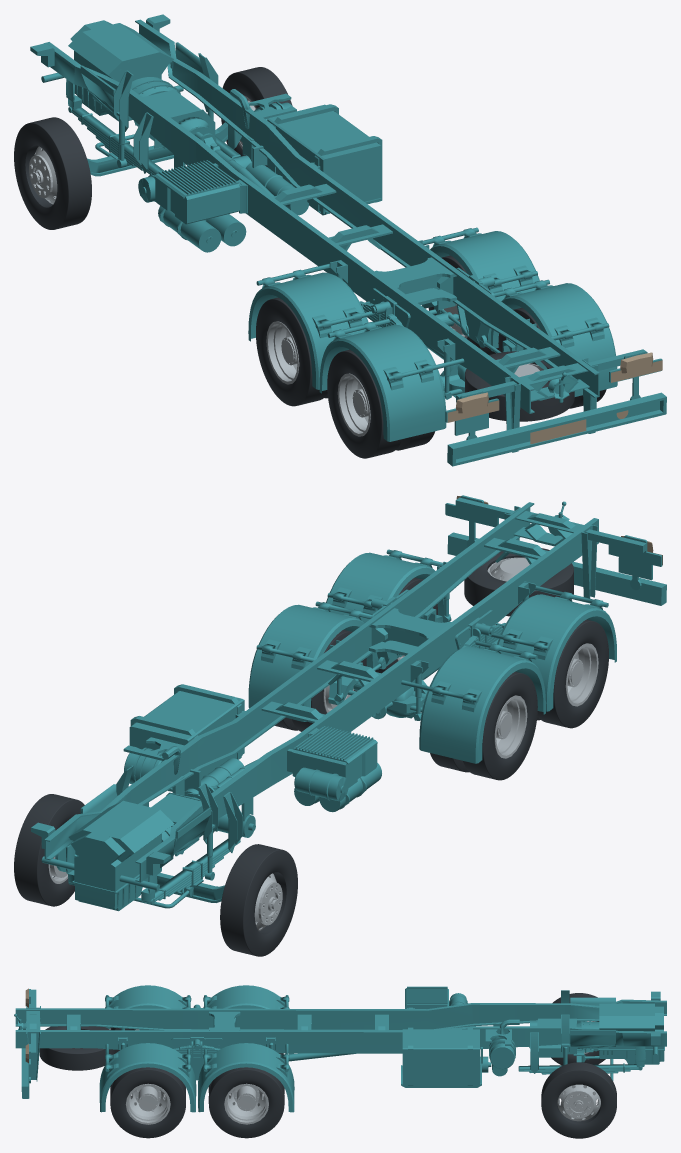
Rendered from chassis.glb.
3 views of the same model, one above another, from view 1: azimuth 30°, elevation 25°; view 2: azimuth 150°, elevation 25°; view 3: azimuth 270°, elevation 25° (orthographic). The views are drawn at different scales.
Visible parts, largest first — view 1: CHASSIS__0, FRONT AXLE CARRIER__0, TIRE-BUMP11__0, LEFT FORDWARD TIRE__0, TIRE04__0, TIRE2__0, FORWARD RIGHT WHELL__0, BACK LEFT WHELL01__0, TIRE-BUMP03__0, FORDWARD LEFT WHEEL__0, TILLIGHTS__0, TIRE-BUMP12__0 (+4 smaller); view 2: CHASSIS__0, FRONT AXLE CARRIER__0, TIRE-BUMP11__0, LEFT FORDWARD TIRE__0, TIRE-BUMP12__0, TIRE2__0, TIRE04__0, FORWARD RIGHT WHELL__0, BACK LEFT WHELL01__0, RIGHT FORDWARD TIRE__0, FORDWARD LEFT WHEEL__0, TIRE-BUMP03__0 (+4 smaller); view 3: CHASSIS__0, FRONT AXLE CARRIER__0, RIGHT FORDWARD TIRE__0, TIRE08__0, TIRE06__0, FORWARD RIGHT WHELL01__0, BACK LEFT WHELL02__0, FORDWARD RIGHT WHEEL__0, TIRE-BUMP03__0, TIRE-BUMP12__0, TIRE-BUMP09__0, TIRE-BUMP07__0 (+2 smaller).
Boxes of the visible parts, left/top/right/bottom form: CHASSIS__0: left=30, top=14, right=666, bottom=466; FRONT AXLE CARRIER__0: left=66, top=42, right=251, bottom=176; TIRE-BUMP11__0: left=14, top=117, right=91, bottom=229; LEFT FORDWARD TIRE__0: left=14, top=125, right=66, bottom=227; TIRE04__0: left=256, top=302, right=308, bottom=403; TIRE2__0: left=328, top=354, right=379, bottom=455; FORWARD RIGHT WHELL__0: left=337, top=373, right=370, bottom=436; BACK LEFT WHELL01__0: left=266, top=321, right=299, bottom=384; TIRE-BUMP03__0: left=465, top=351, right=574, bottom=421; FORDWARD LEFT WHEEL__0: left=29, top=146, right=57, bottom=204; TILLIGHTS__0: left=456, top=352, right=653, bottom=413; TIRE-BUMP12__0: left=221, top=67, right=292, bottom=144; CHASSIS__0: left=31, top=495, right=666, bottom=911; FRONT AXLE CARRIER__0: left=55, top=765, right=243, bottom=908; TIRE-BUMP11__0: left=220, top=844, right=297, bottom=956; LEFT FORDWARD TIRE__0: left=245, top=852, right=297, bottom=954; TIRE-BUMP12__0: left=14, top=794, right=84, bottom=906; TIRE2__0: left=556, top=624, right=608, bottom=725; TIRE04__0: left=485, top=676, right=537, bottom=777; FORWARD RIGHT WHELL__0: left=565, top=643, right=598, bottom=706; BACK LEFT WHELL01__0: left=494, top=695, right=527, bottom=758; RIGHT FORDWARD TIRE__0: left=39, top=802, right=83, bottom=903; FORDWARD LEFT WHEEL__0: left=254, top=873, right=282, bottom=930; TIRE-BUMP03__0: left=464, top=548, right=573, bottom=616; CHASSIS__0: left=14, top=985, right=666, bottom=1112; FRONT AXLE CARRIER__0: left=518, top=990, right=645, bottom=1080; RIGHT FORDWARD TIRE__0: left=543, top=1072, right=615, bottom=1137; TIRE08__0: left=210, top=1071, right=282, bottom=1136; TIRE06__0: left=112, top=1071, right=184, bottom=1136; FORWARD RIGHT WHELL01__0: left=125, top=1083, right=170, bottom=1124; BACK LEFT WHELL02__0: left=224, top=1083, right=268, bottom=1124; FORDWARD RIGHT WHEEL__0: left=557, top=1084, right=600, bottom=1121; TIRE-BUMP03__0: left=39, top=1026, right=115, bottom=1070; TIRE-BUMP12__0: left=541, top=1062, right=616, bottom=1138; TIRE-BUMP09__0: left=208, top=1067, right=284, bottom=1138; TIRE-BUMP07__0: left=110, top=1067, right=185, bottom=1138.
Bounding box in the file's own units: 0.3653 × 0.2043 × 1.24.
